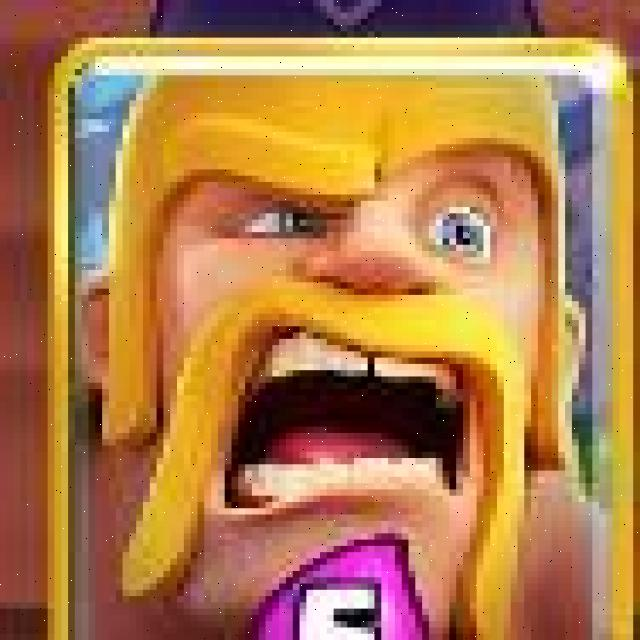Barbarians: (44, 40, 639, 640)
